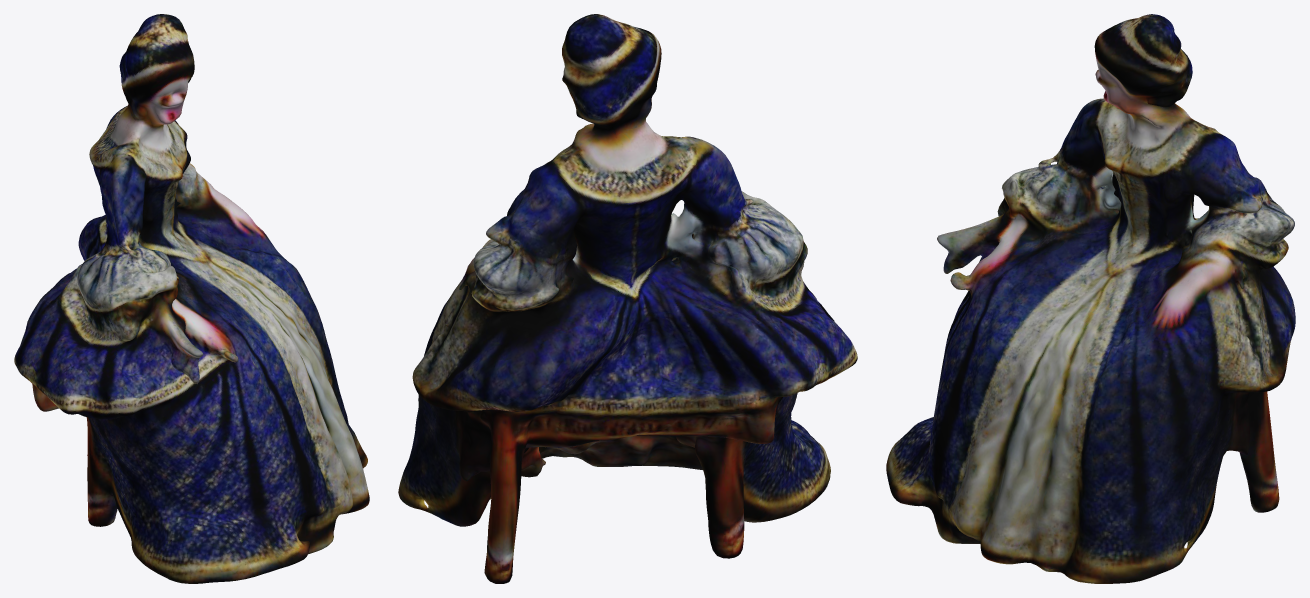
The model's file is 94a5f67b9937_noble_parisian_wome.fbx.
3 renders of one model, left to right at view 1: azimuth 30°, elevation 25°; view 2: azimuth 150°, elevation 25°; view 3: azimuth 270°, elevation 25°, orthographic. The views are drawn at different scales.
Parts seen in each view (by area): view 1: high_poly; view 2: high_poly; view 3: high_poly.
Part boxes in pixels (x1,y1,x2,y2): high_poly: [14, 14, 369, 583]; high_poly: [398, 14, 857, 583]; high_poly: [886, 14, 1295, 583].
Bounding box in the file's own units: 74.88 × 100 × 75.41.
